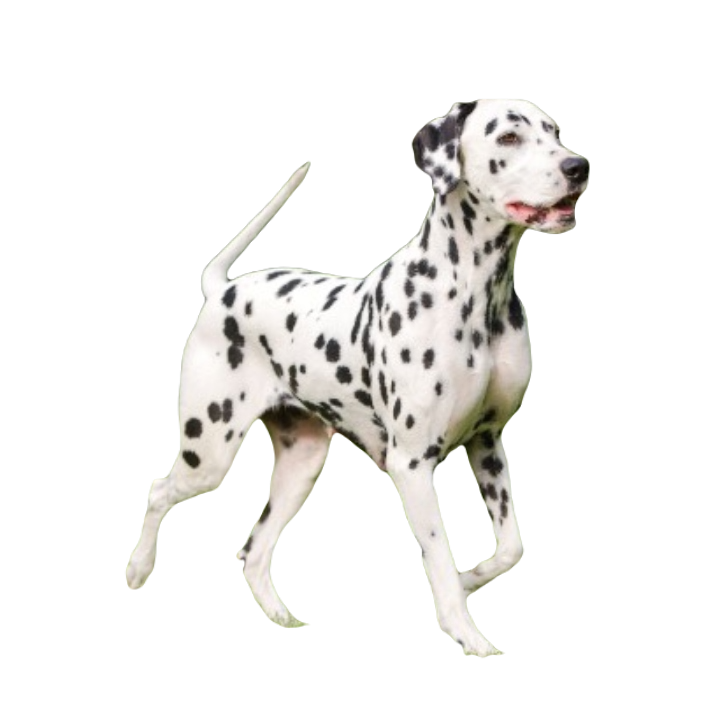Dog: (125, 99, 591, 659)
